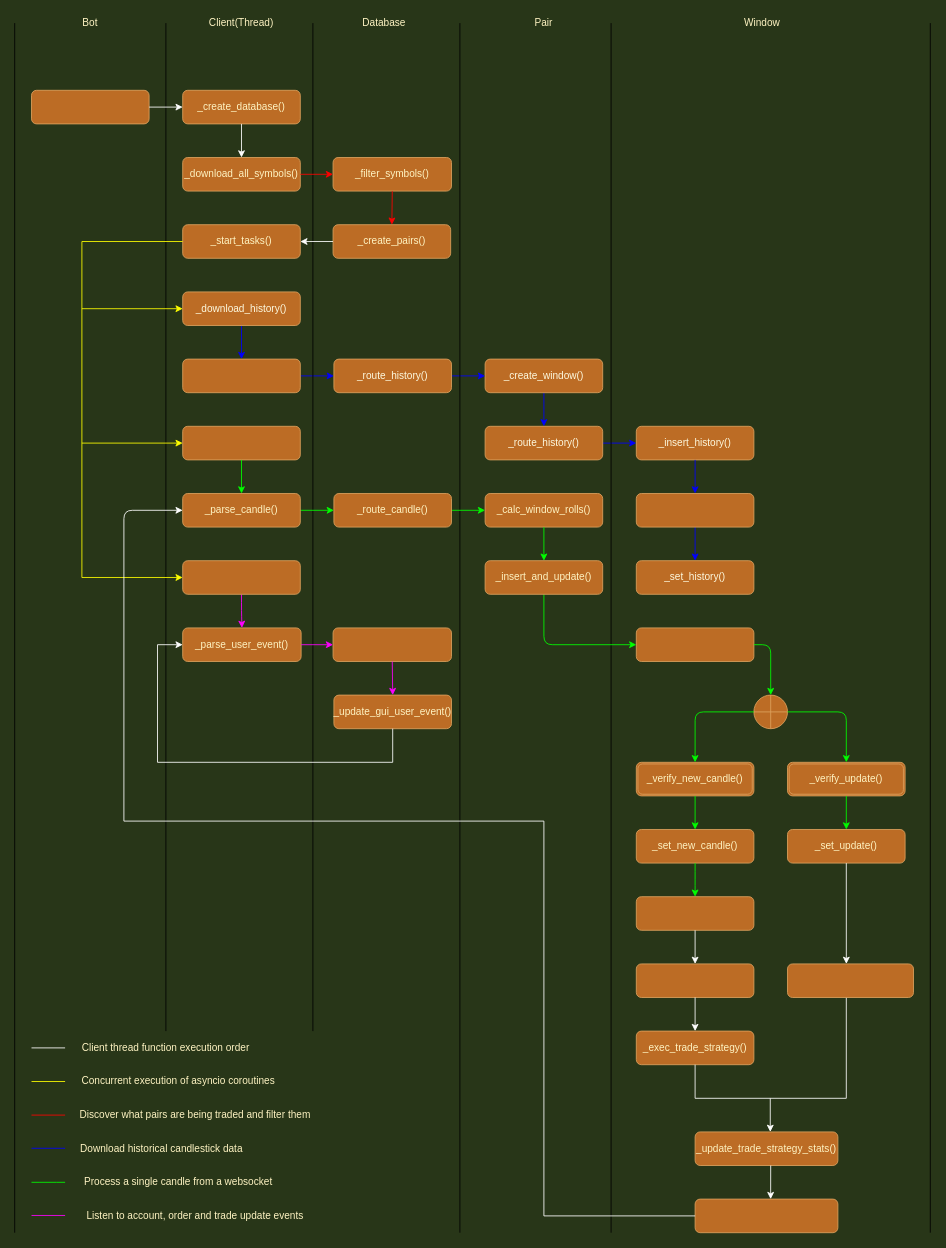
This 946x1248 diagram has some shape labels left out. The centre of each missing label's shape, as x and y in pixels:
"_create_client()" goes at pixel 90 106.
"_exec_after_new_hooks()" goes at pixel 694 980.
"_exec_after_update_hooks()" goes at pixel 850 980.
"_exec_feature_pipeline()" goes at pixel 694 913.
"_insert_new_candle() or _update_last_candle" goes at pixel 694 644.
"_parse_history()" goes at pixel 241 375.
"_process_user_event()" goes at pixel 392 644.
"_start_candle_sockets()" goes at pixel 241 442.
"_start_user_socket()" goes at pixel 241 577.
"_update_gui_candlechart()" goes at pixel 766 1215.
"_verify_history()" goes at pixel 694 510.
